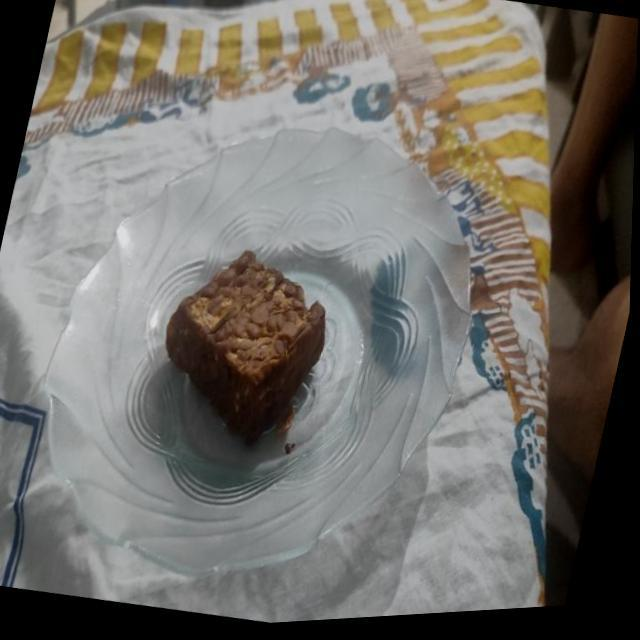tempe_goreng: (166, 252, 325, 444)
